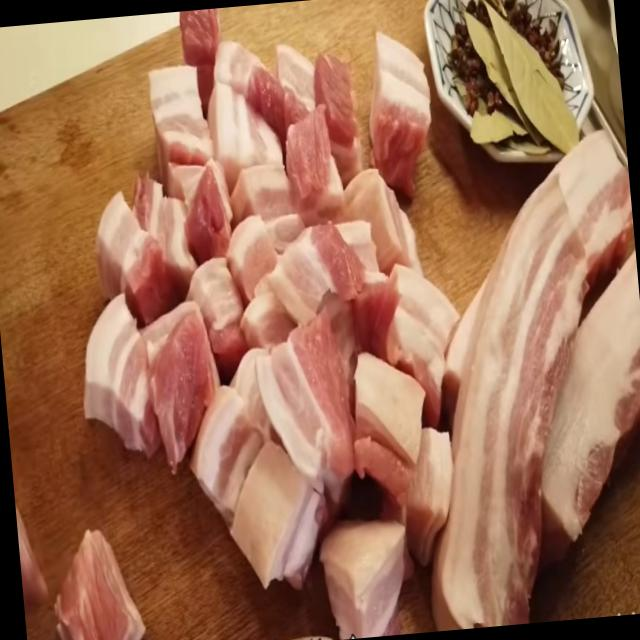pork: (440, 129, 630, 623), (544, 259, 640, 543), (250, 320, 348, 484), (376, 260, 460, 417), (85, 294, 159, 454), (320, 509, 405, 638), (270, 222, 370, 330), (149, 305, 216, 465), (190, 379, 265, 519), (369, 36, 431, 196), (97, 198, 175, 323), (229, 172, 307, 291), (56, 540, 138, 640), (131, 170, 196, 273), (314, 57, 364, 175), (214, 85, 282, 163), (151, 69, 207, 161), (184, 165, 234, 257), (293, 132, 345, 201), (181, 12, 217, 107)
